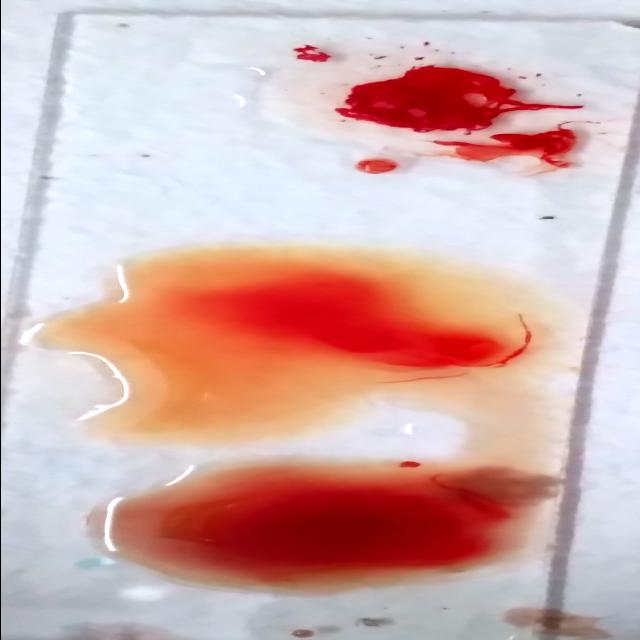D: (242, 40, 606, 172)
